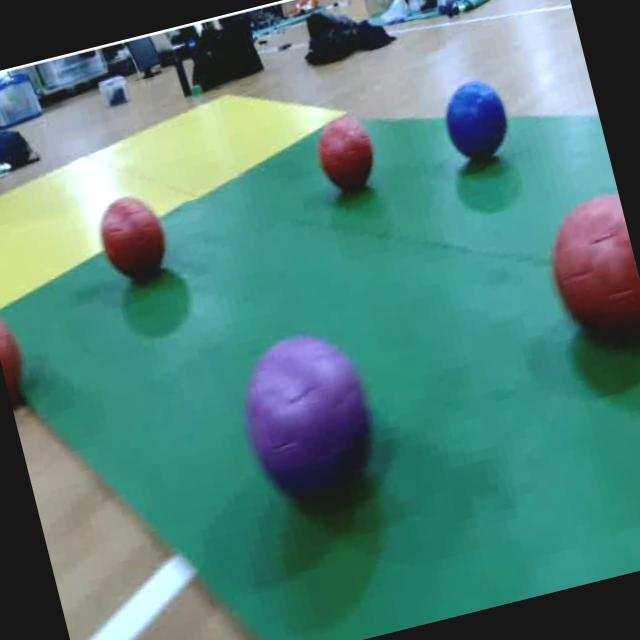blue_ball: (432, 74, 520, 175)
purple_ball: (222, 320, 398, 530)
red_ball: (534, 186, 640, 369), (91, 186, 175, 291), (309, 109, 381, 195), (0, 301, 37, 420)
